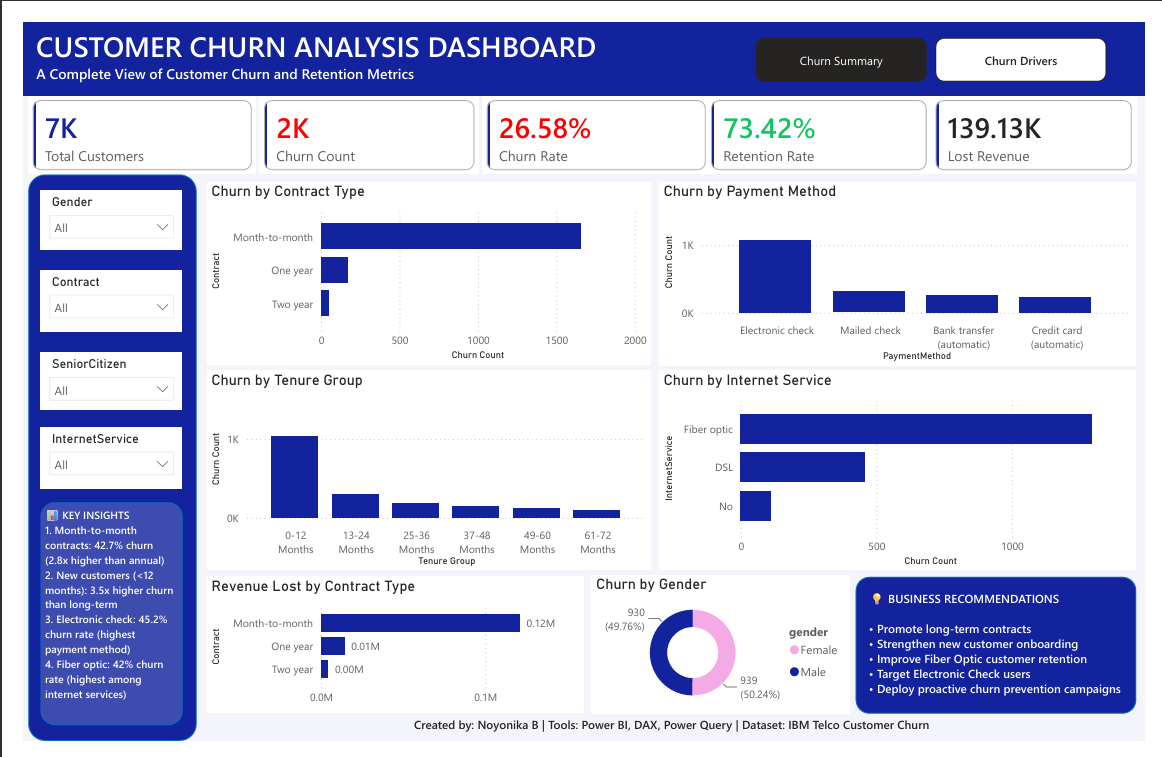

This screenshot's page, from the dashboard's own definition file:
{"tool":"powerbi","page":{"name":"Churn Summary","canvas":[1280,820],"ordinal":0},"visuals":[{"type":"shape","box":[6,174,192,646],"z":0},{"type":"cardVisual","fields":{"Data":["Customer-Churn.Total Customers"]},"box":[6,84,260,90],"z":1000},{"type":"cardVisual","fields":{"Data":["Customer-Churn.Churn Count"]},"box":[270,84,250,90],"z":2000},{"type":"cardVisual","fields":{"Data":["Customer-Churn.Churn Rate"]},"box":[524,84,260,90],"z":3000},{"type":"cardVisual","fields":{"Data":["Customer-Churn.Retention Rate"]},"box":[780,84,256,90],"z":4000},{"type":"barChart","title":"Churn by Contract Type","fields":{"Category":["Customer-Churn.Contract"],"Y":["Customer-Churn.Churn Count"]},"box":[210,182.9,506.5,208.2],"z":5000},{"type":"clusteredColumnChart","title":"Churn by Payment Method","fields":{"Category":["Customer-Churn.PaymentMethod"],"Y":["Customer-Churn.Churn Count"]},"box":[726.4,182.7,543.6,209.1],"z":6000},{"type":"slicer","fields":{"Values":["Customer-Churn.gender"]},"box":[20,191.7,161.7,68.3],"z":7000},{"type":"slicer","fields":{"Values":["Customer-Churn.Contract"]},"box":[20,283.3,161.7,70],"z":8000},{"type":"slicer","fields":{"Values":["Customer-Churn.SeniorCitizen"]},"box":[20,376.7,161.7,66.7],"z":9000},{"type":"slicer","fields":{"Values":["Customer-Churn.InternetService"]},"box":[20,461.7,161.7,70],"z":10000},{"type":"clusteredBarChart","title":"Churn by Internet Service","fields":{"Category":["Customer-Churn.InternetService"],"Y":["Customer-Churn.Churn Count"]},"box":[725.5,397.5,544.5,228],"z":11000},{"type":"columnChart","title":"Churn by Tenure Group","fields":{"Category":["Customer-Churn.Tenure Group"],"Y":["Customer-Churn.Churn Count"]},"box":[210,397.5,506,228.5],"z":12000},{"type":"cardVisual","fields":{"Data":["Customer-Churn.Lost Revenue"]},"box":[1036,84,234,90],"z":13000},{"type":"donutChart","title":"Churn by Gender","fields":{"Category":["Customer-Churn.gender"],"Y":["Customer-Churn.Churn Count"]},"box":[648.6,631.4,295.7,157.1],"z":14000},{"type":"shape","box":[20,548.3,161.7,253.3],"z":15000},{"type":"textbox","box":[20,548.3,161.7,253.3],"z":16000},{"type":"shape","box":[0,0,1280,84],"z":17000},{"type":"textbox","box":[10,0,672,84],"z":18000},{"type":"pageNavigator","box":[836,18,400,50],"z":19000},{"type":"clusteredBarChart","title":"Revenue Lost by Contract Type","fields":{"Category":["Customer-Churn.Contract"],"Y":["Customer-Churn.Lost Revenue"]},"box":[210,632.9,430,155.7],"z":20000},{"type":"shape","box":[950,632.9,320,155.7],"z":21000},{"type":"textbox","box":[960,644.3,310,144.3],"z":22000},{"type":"textbox","box":[210,788,1060,30],"z":23000}]}

Visuals, with their boxes in screenshot pixels (x1, y1, x2, y2), scaled from the page's 1280x820 canvas onto the 1162x757 screenshot:
shape: bbox(5, 161, 180, 756)
cardVisual - Customer-Churn.Total Customers: bbox(5, 78, 241, 161)
cardVisual - Customer-Churn.Churn Count: bbox(245, 78, 472, 161)
cardVisual - Customer-Churn.Churn Rate: bbox(476, 78, 712, 161)
cardVisual - Customer-Churn.Retention Rate: bbox(708, 78, 940, 161)
"Churn by Contract Type" barChart: bbox(191, 169, 650, 361)
"Churn by Payment Method" clusteredColumnChart: bbox(659, 169, 1153, 362)
slicer - Customer-Churn.gender: bbox(18, 177, 165, 240)
slicer - Customer-Churn.Contract: bbox(18, 262, 165, 326)
slicer - Customer-Churn.SeniorCitizen: bbox(18, 348, 165, 409)
slicer - Customer-Churn.InternetService: bbox(18, 426, 165, 491)
"Churn by Internet Service" clusteredBarChart: bbox(659, 367, 1153, 577)
"Churn by Tenure Group" columnChart: bbox(191, 367, 650, 578)
cardVisual - Customer-Churn.Lost Revenue: bbox(940, 78, 1153, 161)
"Churn by Gender" donutChart: bbox(589, 583, 857, 728)
shape: bbox(18, 506, 165, 740)
textbox: bbox(18, 506, 165, 740)
shape: bbox(0, 0, 1161, 78)
textbox: bbox(9, 0, 619, 78)
pageNavigator: bbox(759, 17, 1122, 63)
"Revenue Lost by Contract Type" clusteredBarChart: bbox(191, 584, 581, 728)
shape: bbox(862, 584, 1153, 728)
textbox: bbox(872, 595, 1153, 728)
textbox: bbox(191, 727, 1153, 755)
